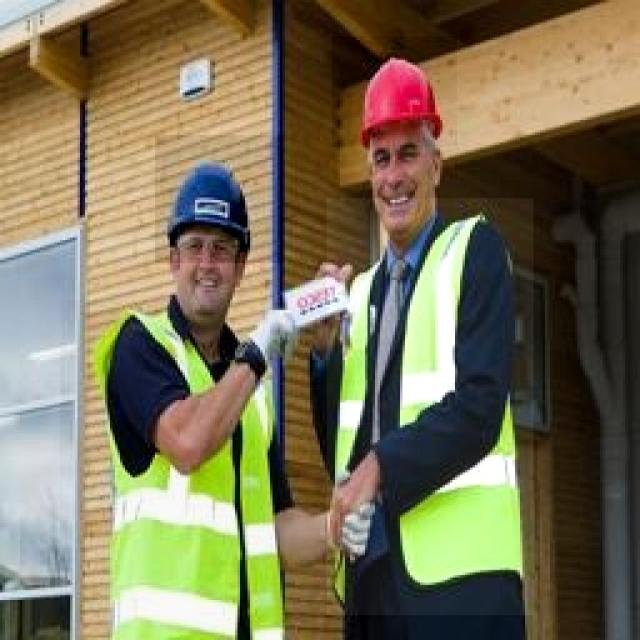Helmet: (155, 135, 283, 263), (332, 36, 457, 146)
Safety Vest: (326, 198, 534, 615), (60, 299, 280, 640)
